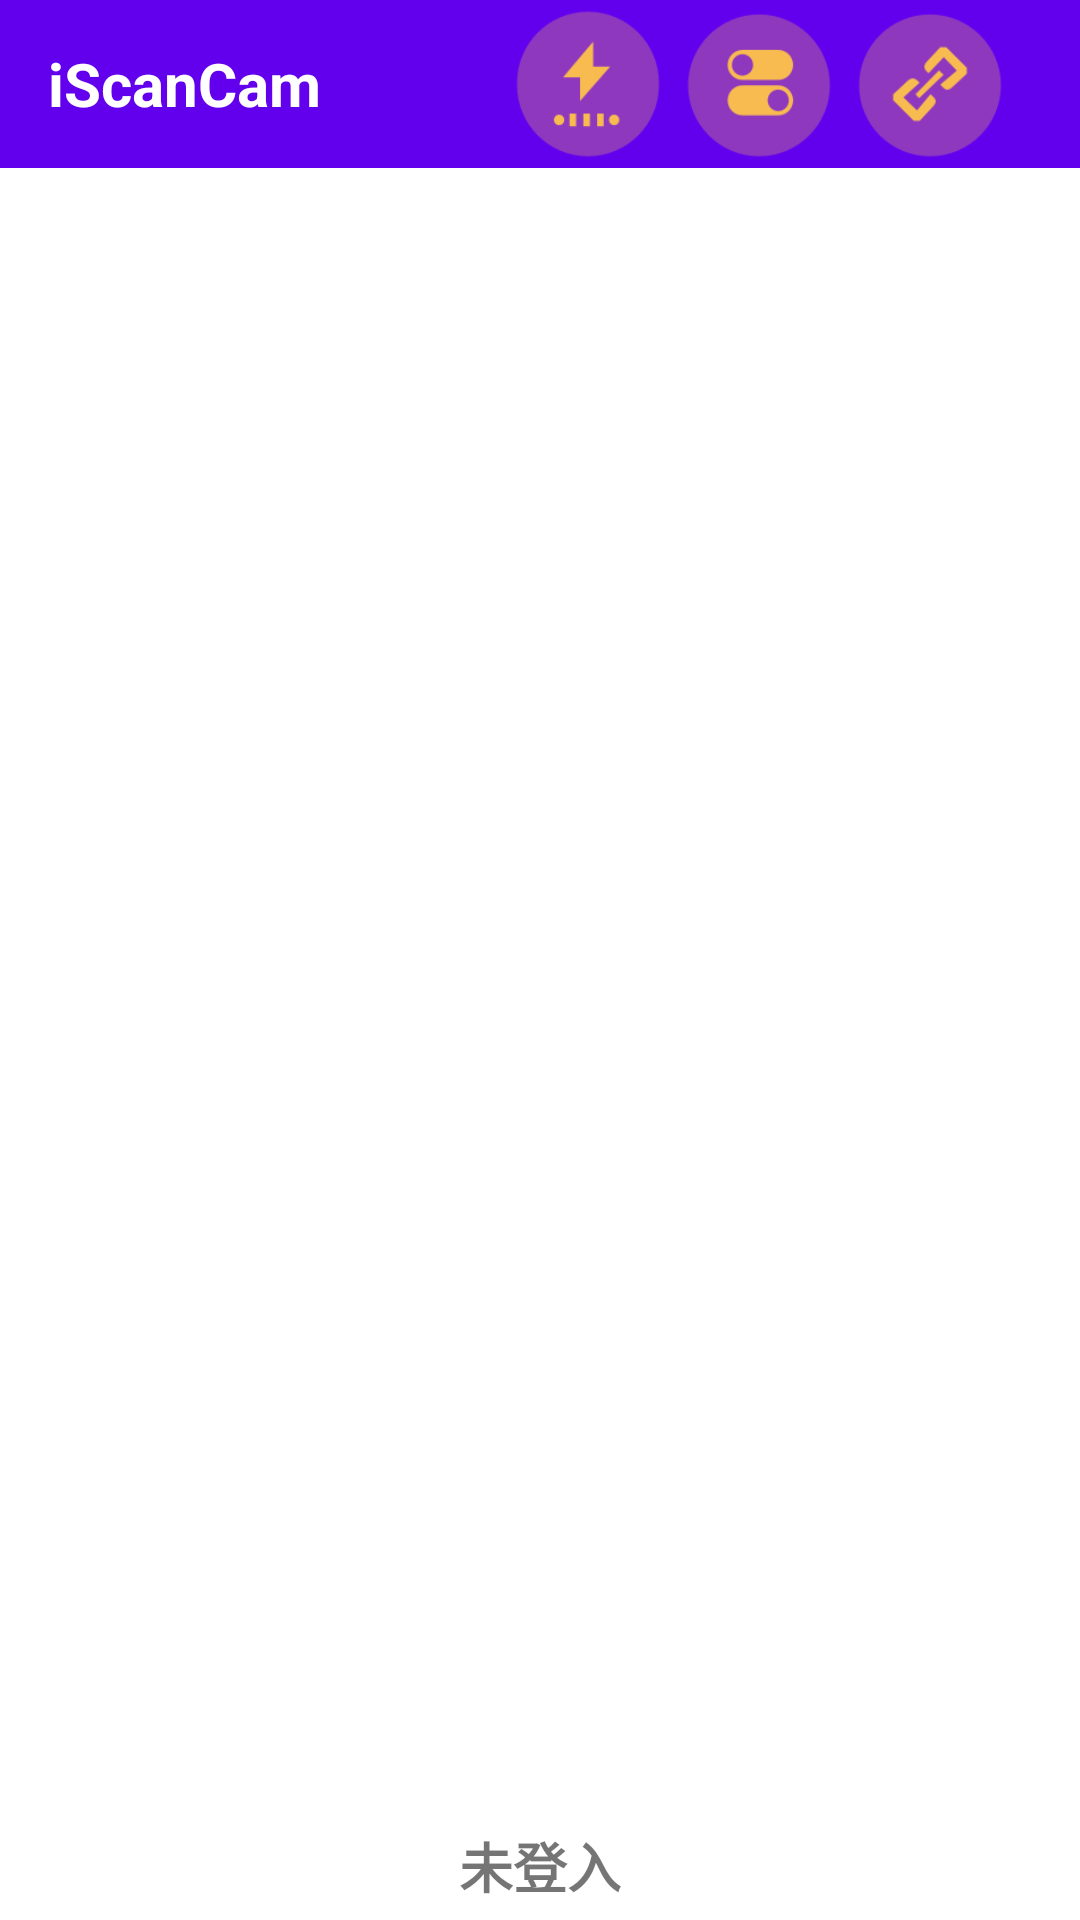

Locate icon controls on the screen. Image size 1080px x 1920px, boxes as (x1, y1, x2, y2).
hotkey homecontrol: (688, 14, 830, 156)
hotkey meter: (517, 12, 659, 156)
